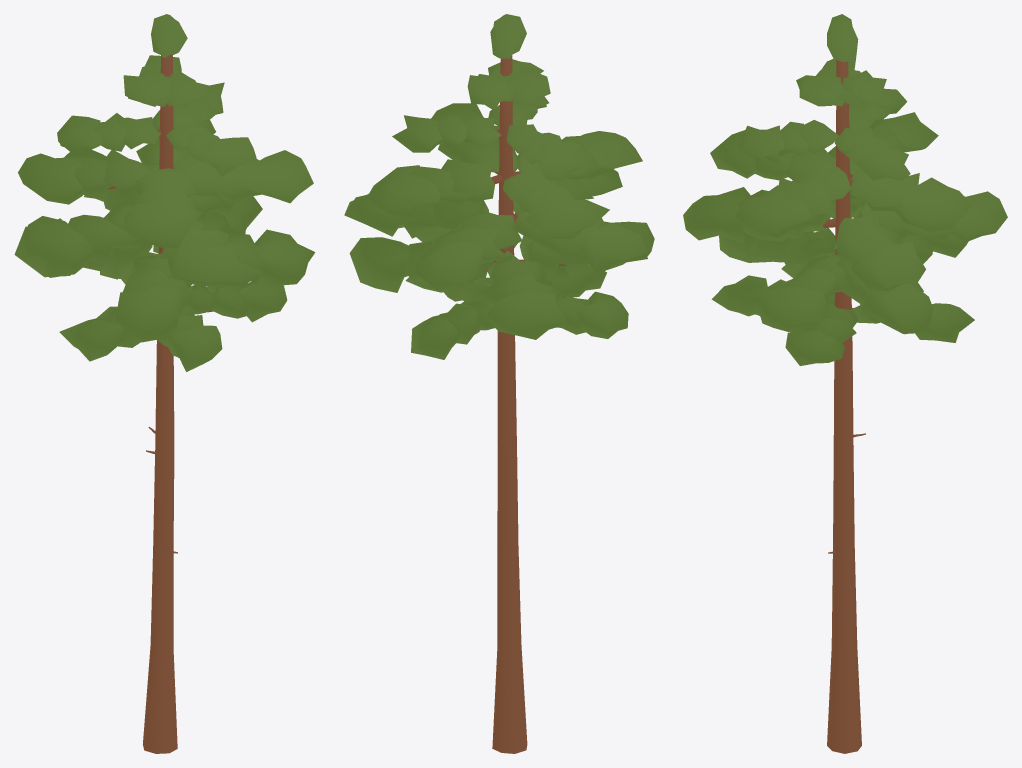
Rendered from Blender_ShortleafPine_2.glb.
3 views of the same model, side by side, from view 1: azimuth 30°, elevation 25°; view 2: azimuth 150°, elevation 25°; view 3: azimuth 270°, elevation 25° (orthographic).
Visible parts, largest first — view 1: Blender_ShortleafPine_2; view 2: Blender_ShortleafPine_2; view 3: Blender_ShortleafPine_2.
Boxes of the visible parts, <box> form: Blender_ShortleafPine_2: <box>14,14,315,753</box>; Blender_ShortleafPine_2: <box>344,14,654,753</box>; Blender_ShortleafPine_2: <box>683,14,1007,753</box>.
Bounding box in the file's own units: 10.25 × 26.06 × 10.5.
